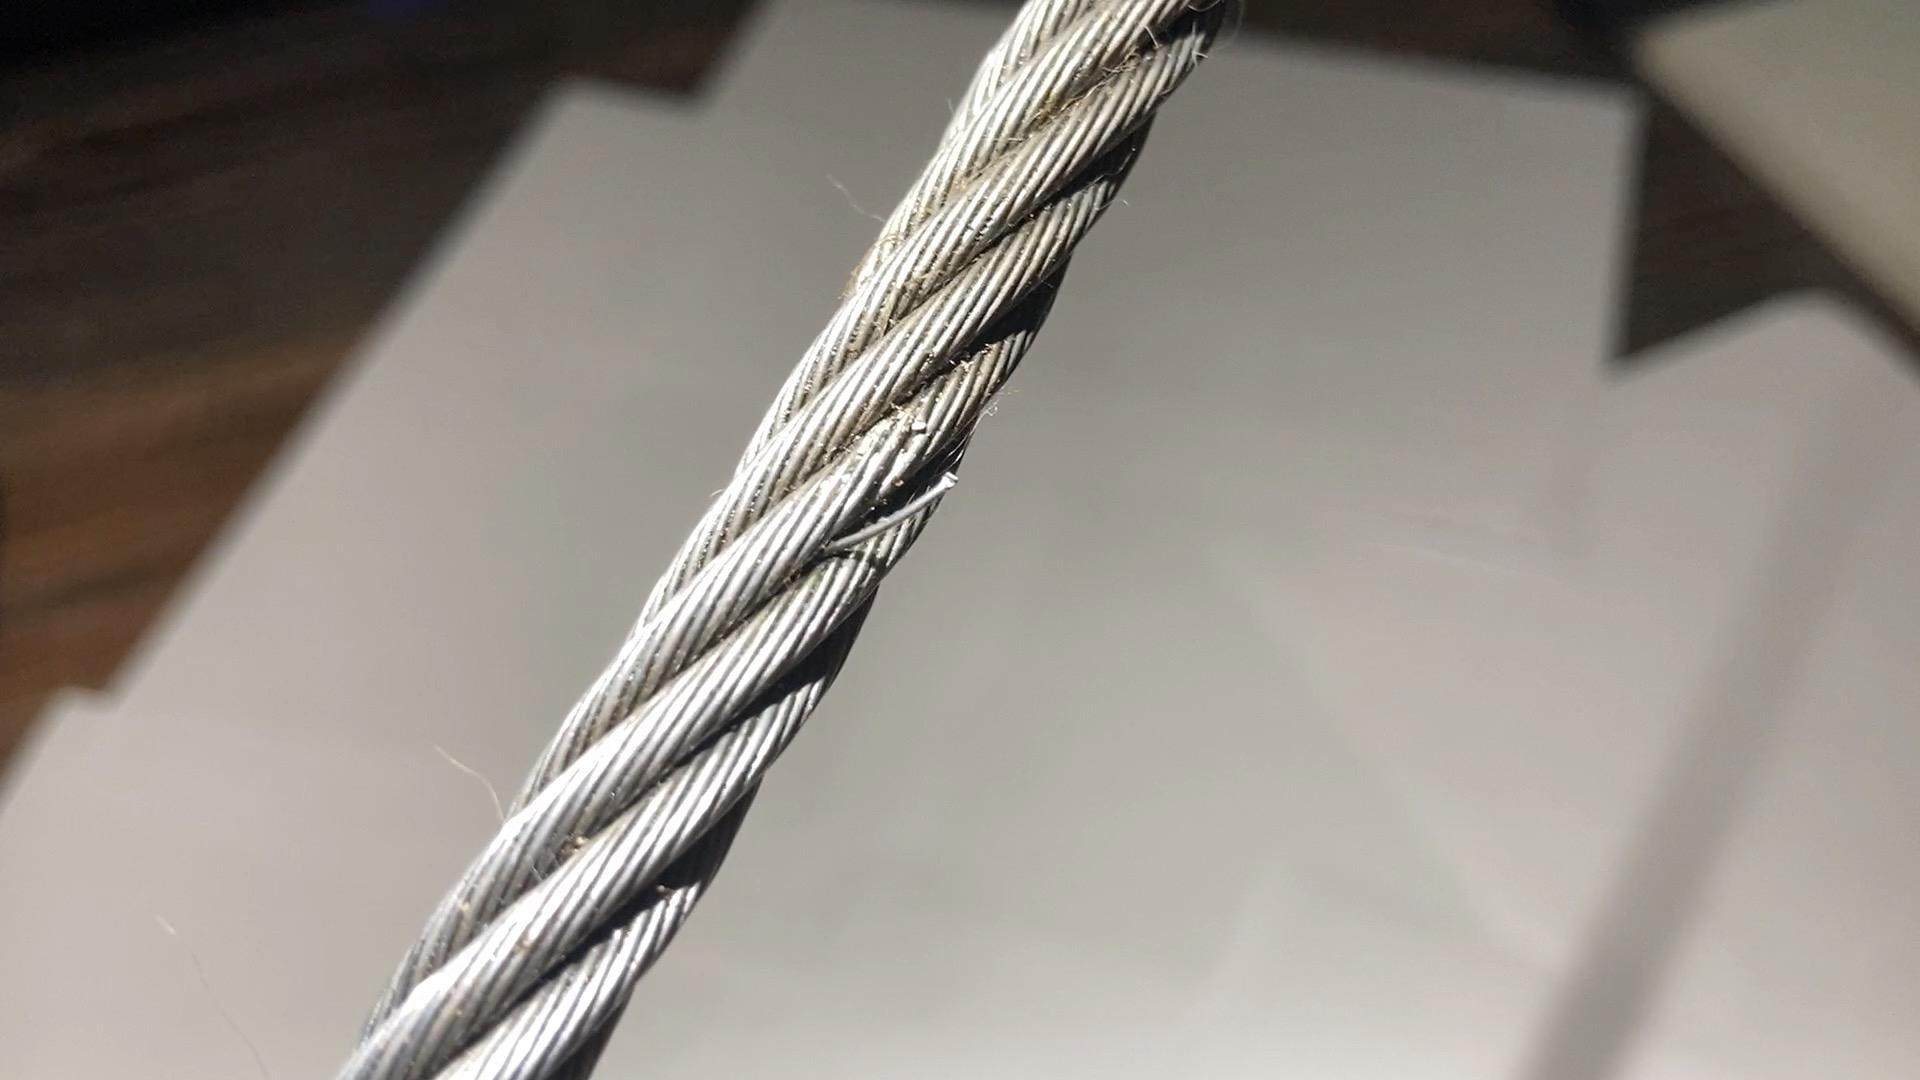break: (815, 447, 961, 574)
